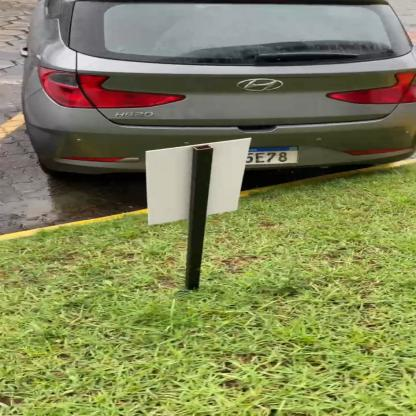Plate: (254, 142, 301, 167)
